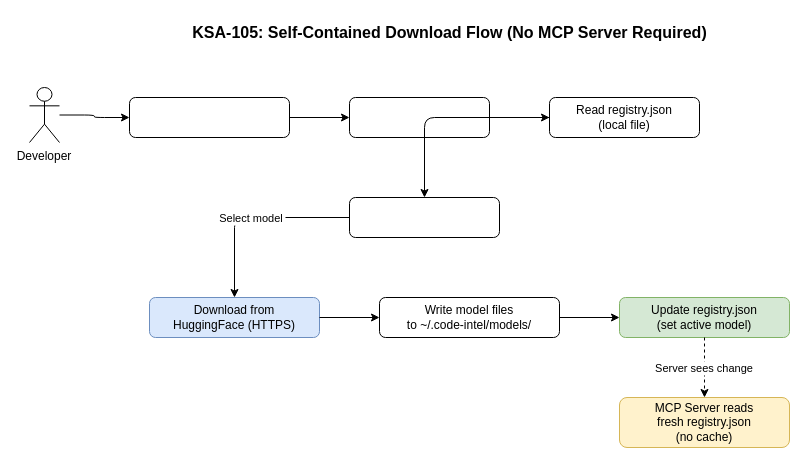
The diagram is 807 pixels wide and 465 high, and some of its shapes have lost their labels. The shapes that lost their labels are listed below. From the top down, each one's box as (x1, y1, x2, y2) in pixels, then its label:
(128, 96, 290, 138): Invoke "Download Embedding Model"
(348, 96, 490, 138): Read Local Model Catalog
(348, 196, 500, 238): Show QuickPick with Status Icons
